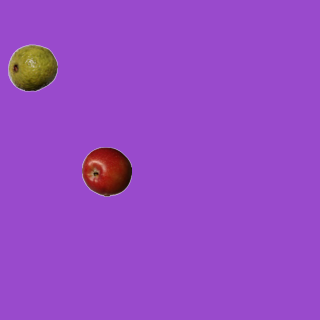Apple Braeburn: (81, 146, 131, 196)
Guava: (7, 42, 57, 92)
